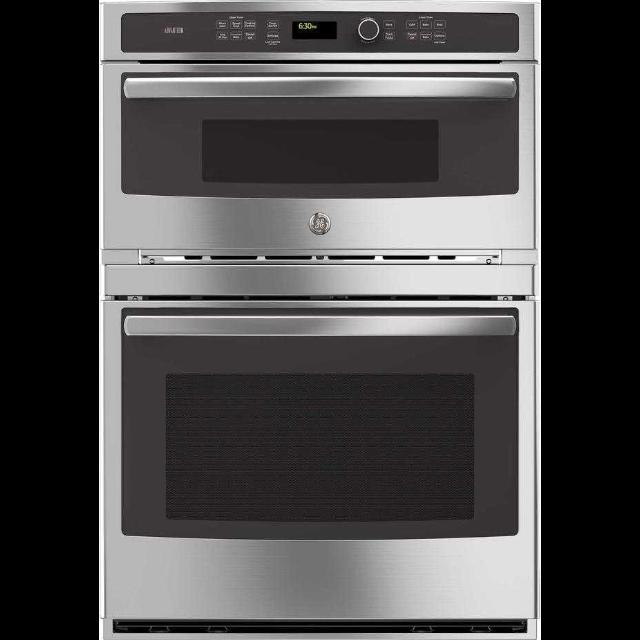Oven: (99, 0, 541, 640)
